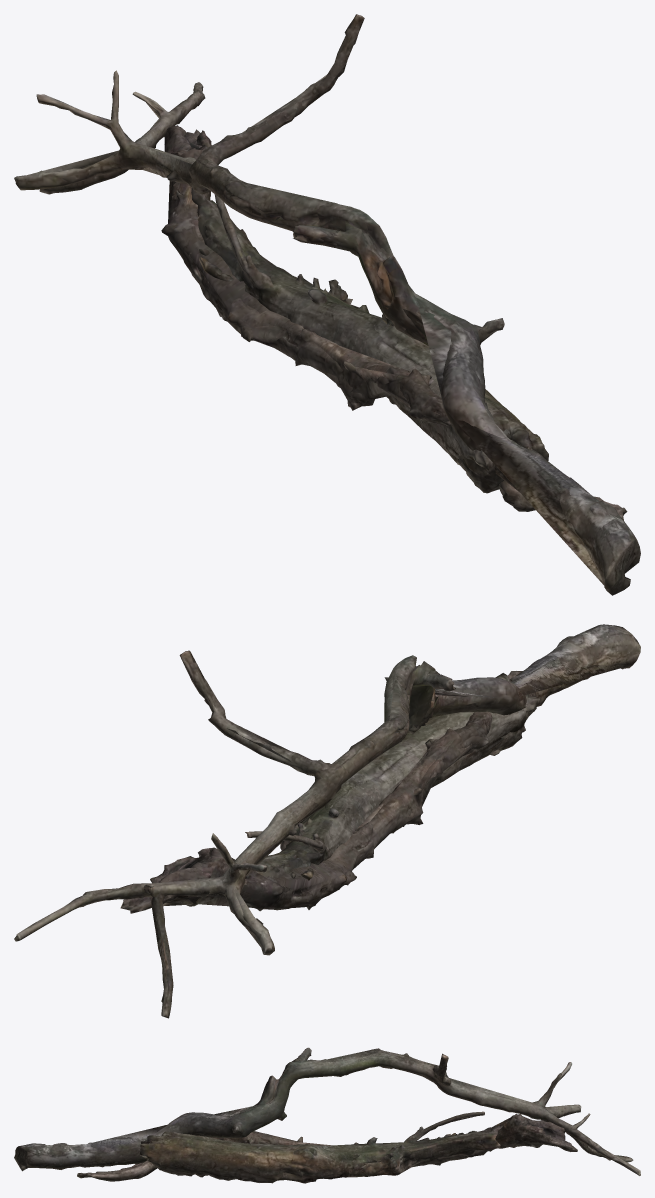
Rendered from dry_branches_medium_01.glb.
3 renders of one model, top to bottom at view 1: azimuth 30°, elevation 25°; view 2: azimuth 150°, elevation 25°; view 3: azimuth 270°, elevation 25°, orthographic. The views are drawn at different scales.
Visible parts, largest first — view 1: dry_branches_medium_01_a, dry_branches_medium_01_a_lo, dry_branches_medium_01_c, dry_branches_medium_01_b, dry_branches_medium_01_b_lo, dry_branches_medium_01_c_lo; view 2: dry_branches_medium_01_a, dry_branches_medium_01_a_lo, dry_branches_medium_01_c, dry_branches_medium_01_b, dry_branches_medium_01_b_lo, dry_branches_medium_01_c_lo; view 3: dry_branches_medium_01_a, dry_branches_medium_01_c, dry_branches_medium_01_a_lo, dry_branches_medium_01_b, dry_branches_medium_01_c_lo, dry_branches_medium_01_b_lo.
Part boxes in pixels (left/top/right/bottom): dry_branches_medium_01_a: left=14, top=14, right=640, bottom=595; dry_branches_medium_01_a_lo: left=21, top=16, right=640, bottom=593; dry_branches_medium_01_c: left=191, top=188, right=548, bottom=493; dry_branches_medium_01_b: left=161, top=125, right=627, bottom=520; dry_branches_medium_01_b_lo: left=164, top=132, right=623, bottom=520; dry_branches_medium_01_c_lo: left=197, top=200, right=532, bottom=483; dry_branches_medium_01_a: left=14, top=624, right=640, bottom=1018; dry_branches_medium_01_a_lo: left=15, top=625, right=640, bottom=1013; dry_branches_medium_01_c: left=245, top=673, right=539, bottom=880; dry_branches_medium_01_b: left=120, top=671, right=525, bottom=913; dry_branches_medium_01_b_lo: left=122, top=671, right=522, bottom=909; dry_branches_medium_01_c_lo: left=247, top=679, right=532, bottom=877; dry_branches_medium_01_a: left=14, top=1047, right=640, bottom=1175; dry_branches_medium_01_c: left=140, top=1111, right=503, bottom=1183; dry_branches_medium_01_a_lo: left=15, top=1049, right=640, bottom=1175; dry_branches_medium_01_b: left=77, top=1113, right=577, bottom=1181; dry_branches_medium_01_c_lo: left=141, top=1111, right=500, bottom=1178; dry_branches_medium_01_b_lo: left=77, top=1114, right=577, bottom=1178.
Size of the model in its own units: 0.3231 by 0.341 by 1.3.
1 material, 1 textured.
